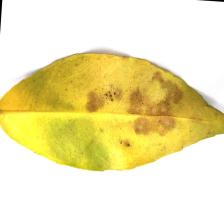canker: (68, 68, 193, 152)
